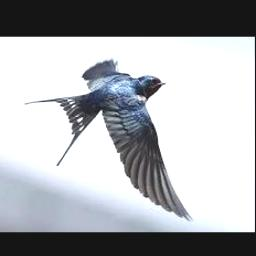Swallow: (24, 57, 194, 222)
